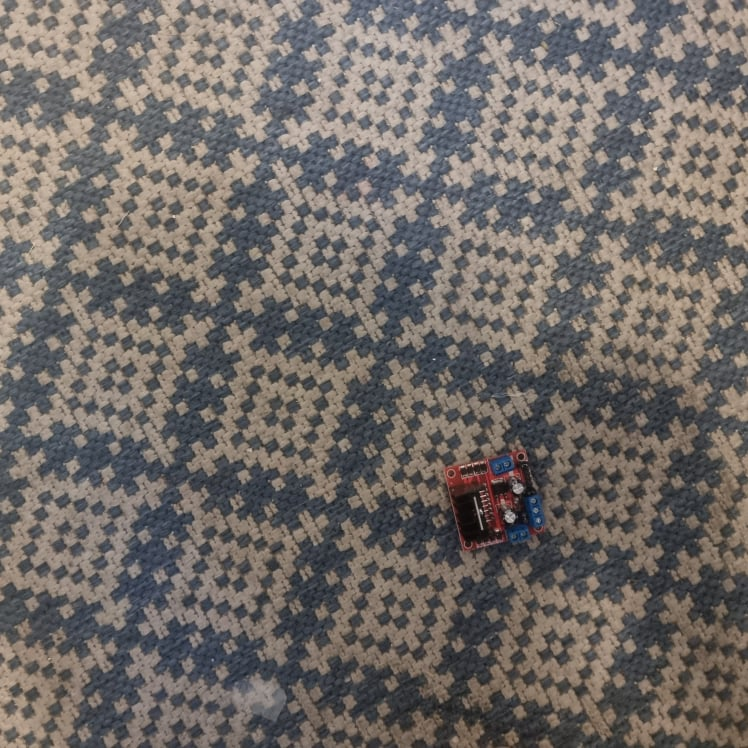MOTOR: (445, 448, 547, 557)
